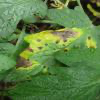Tomato Early blight leaf: (3, 27, 93, 82)
